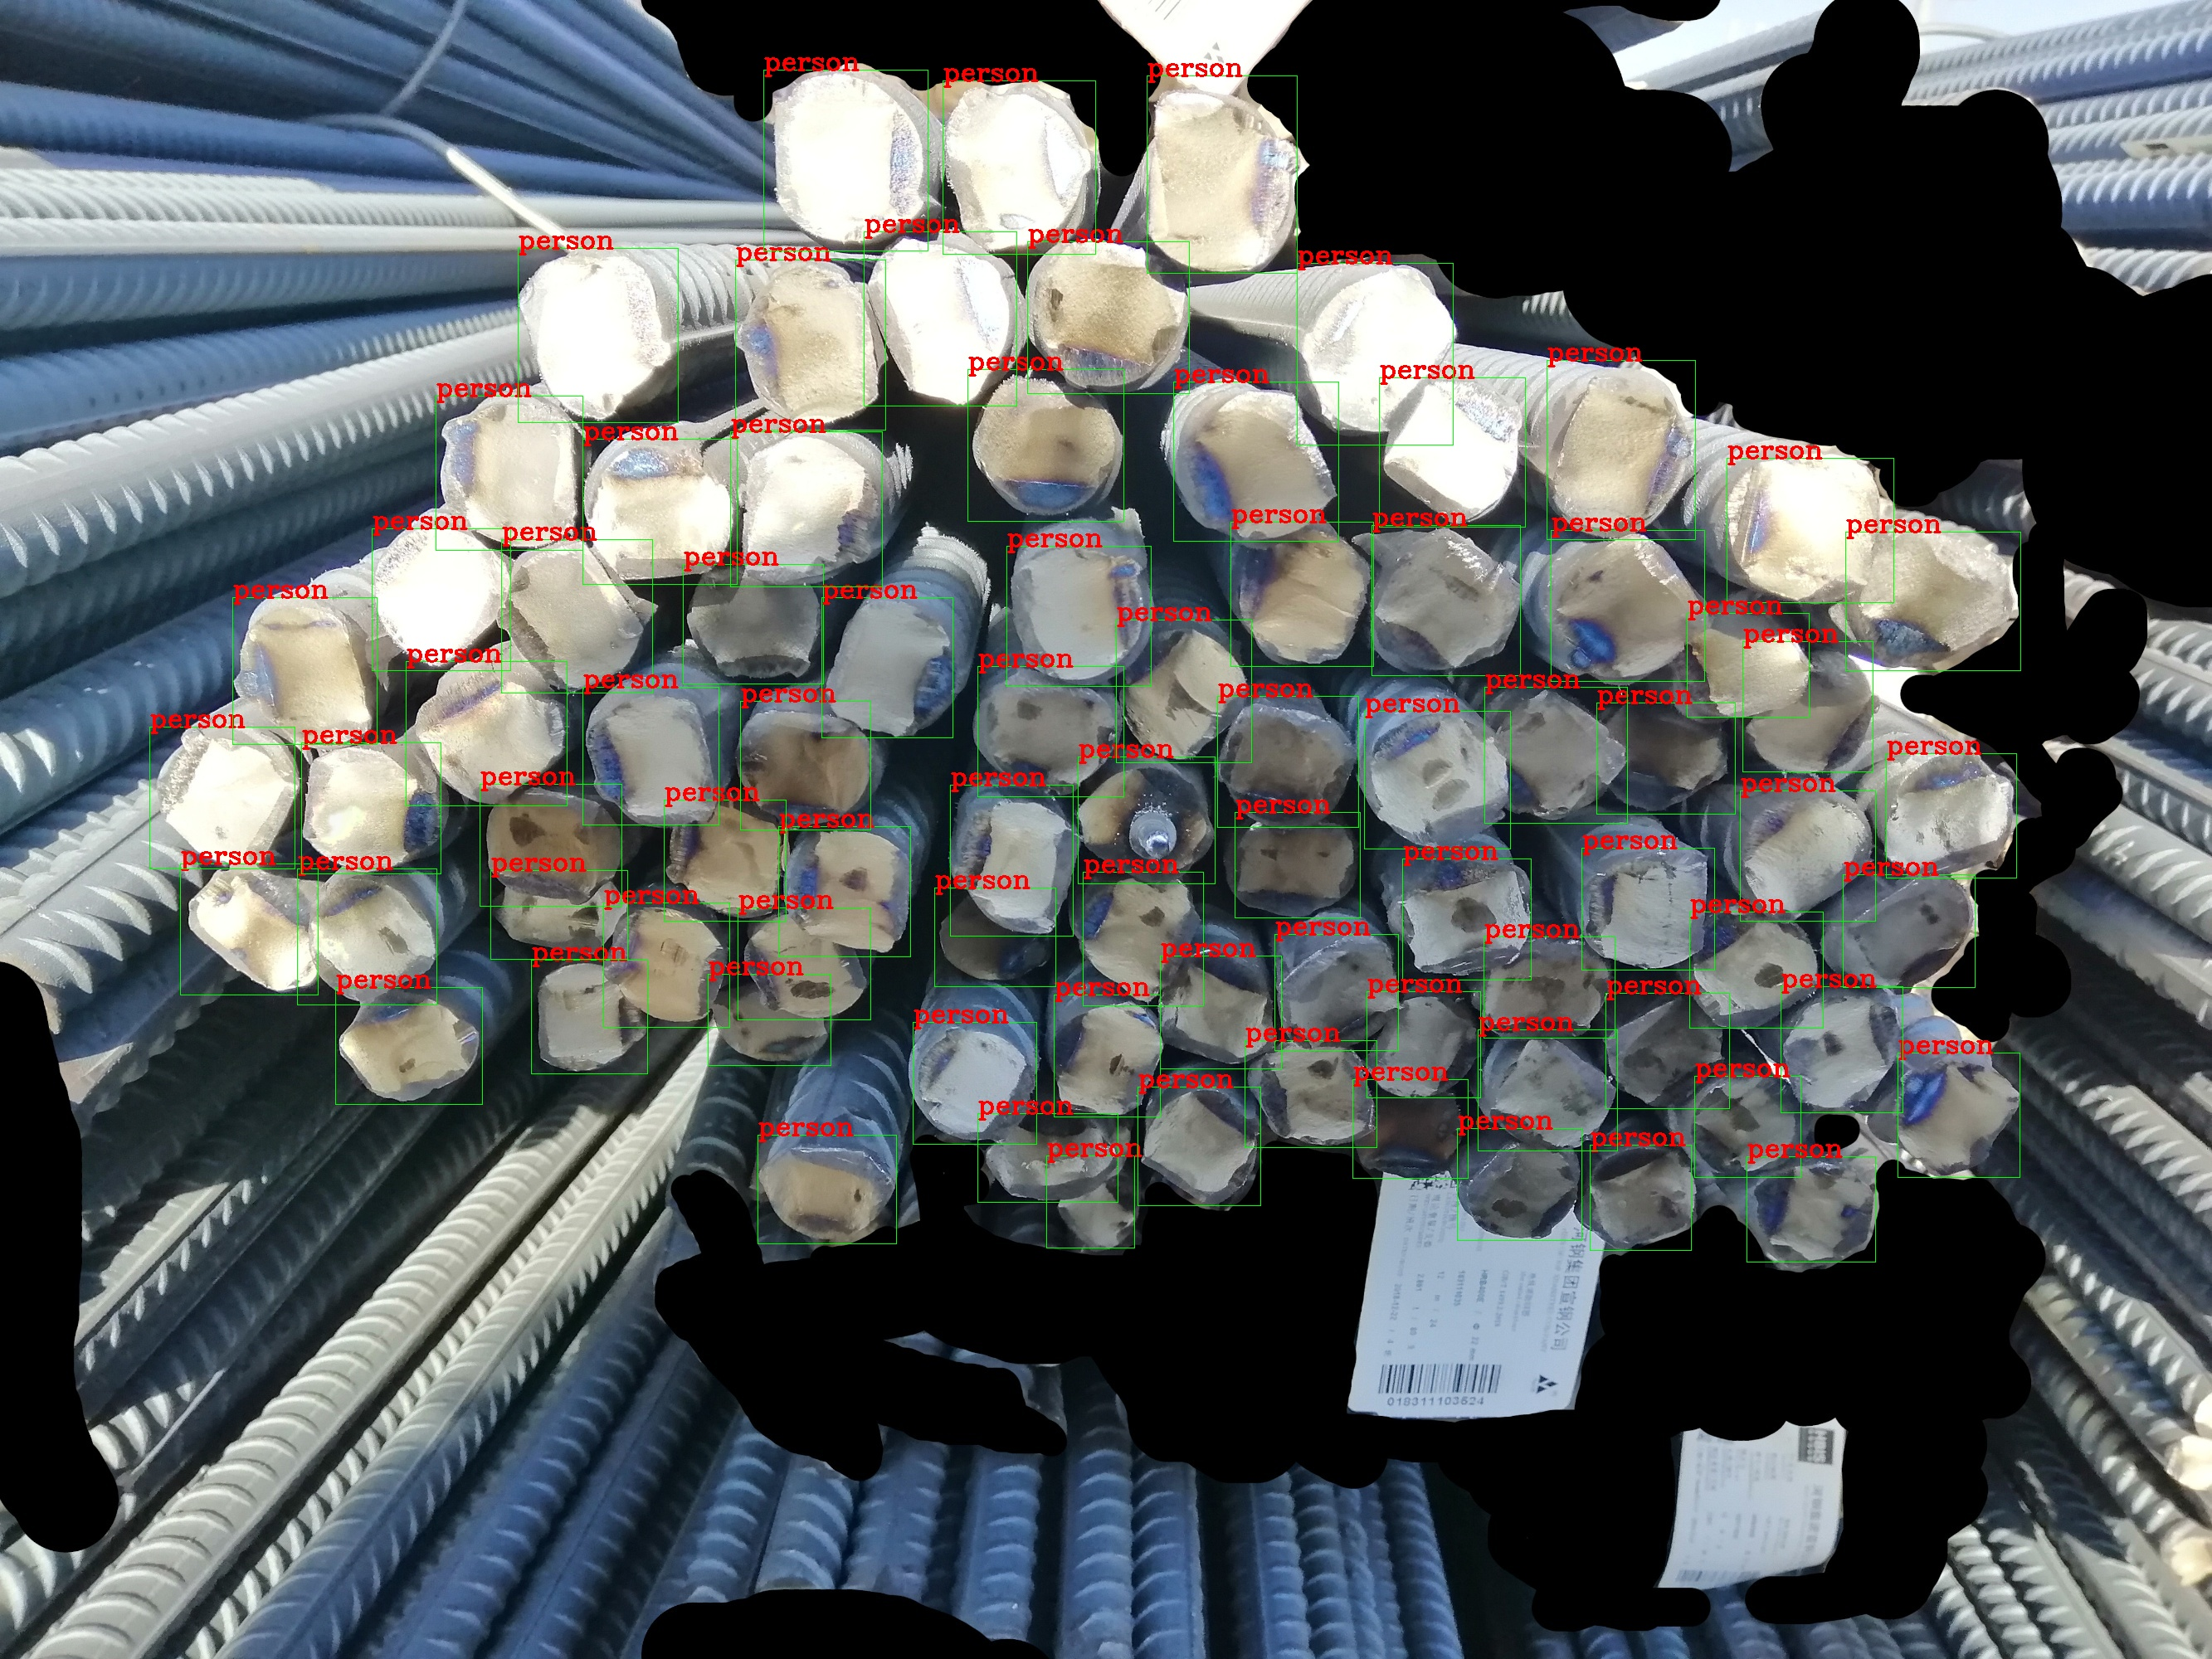person: (764, 71, 928, 251), (1147, 76, 1298, 274), (1298, 264, 1454, 445), (519, 249, 679, 423), (865, 232, 1017, 406), (1547, 361, 1696, 540), (943, 81, 1096, 255), (1174, 382, 1339, 542), (736, 260, 886, 431), (1028, 242, 1190, 394), (1846, 533, 2021, 671), (1727, 459, 1894, 603), (968, 370, 1124, 522), (731, 432, 883, 587), (407, 662, 568, 806), (502, 540, 653, 693), (1552, 531, 1705, 682), (436, 397, 583, 551), (583, 440, 738, 585), (1372, 526, 1521, 676), (1380, 378, 1526, 528), (233, 598, 378, 745), (150, 727, 295, 869), (1231, 523, 1374, 667), (1007, 547, 1152, 687), (1365, 712, 1511, 849), (373, 529, 511, 671), (1485, 688, 1628, 824), (1117, 620, 1252, 763), (298, 869, 437, 1005), (978, 667, 1124, 797), (583, 688, 719, 825), (951, 786, 1074, 937), (302, 743, 441, 874), (822, 598, 953, 738), (1218, 697, 1359, 828), (181, 864, 319, 995), (1741, 791, 1876, 922), (480, 785, 622, 907), (336, 988, 483, 1105), (1743, 642, 1873, 772), (779, 827, 911, 957), (1079, 757, 1216, 884), (1479, 1030, 1618, 1151), (684, 565, 824, 684), (741, 702, 871, 830), (1887, 754, 2017, 878), (1582, 849, 1715, 971), (1084, 873, 1204, 1006), (604, 903, 730, 1028), (1403, 859, 1532, 980), (1781, 987, 1903, 1113), (1597, 703, 1736, 815), (1690, 912, 1824, 1029), (914, 1023, 1037, 1145), (1898, 1053, 2020, 1178), (758, 1136, 897, 1244), (665, 800, 787, 922), (1844, 875, 1976, 988), (738, 908, 871, 1020), (1138, 1087, 1261, 1206), (1275, 935, 1399, 1051), (1245, 1041, 1377, 1148), (1606, 994, 1730, 1109), (1458, 1129, 1582, 1241), (1161, 956, 1282, 1069), (1747, 1157, 1876, 1262), (1235, 813, 1361, 918), (532, 961, 648, 1074), (1484, 937, 1615, 1039), (1055, 995, 1161, 1117), (1688, 614, 1810, 718), (978, 1114, 1118, 1203), (1367, 992, 1481, 1098), (491, 871, 628, 960), (935, 888, 1056, 987), (709, 975, 831, 1066), (1353, 1080, 1469, 1179), (1591, 1146, 1692, 1251), (1695, 1077, 1801, 1178), (1047, 1156, 1135, 1248)
